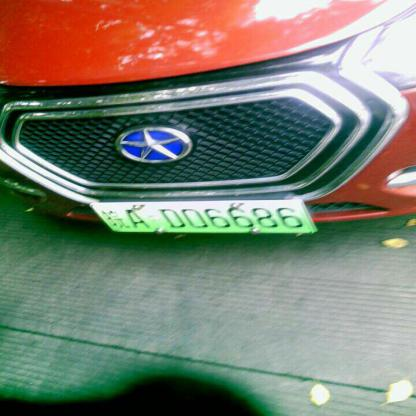lp: (87, 199, 316, 235)
